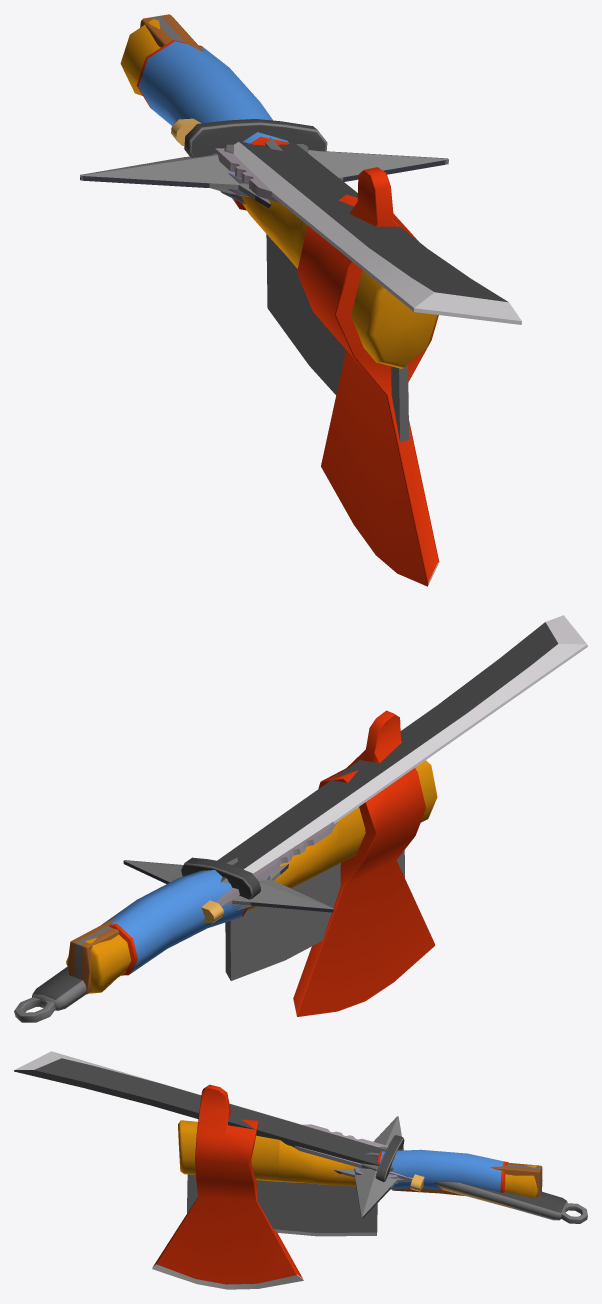
File: Weapons.fbx
3 views of the same model, one above another, from view 1: azimuth 30°, elevation 25°; view 2: azimuth 150°, elevation 25°; view 3: azimuth 270°, elevation 25° (orthographic). The views are drawn at different scales.
Visible parts, largest first — view 1: Butcher_knife2, Knife2, Butcher_knife1, Disc2, Disc1, Knife1; view 2: Butcher_knife2, Knife2, Butcher_knife1, Disc2, Knife1, Disc1; view 3: Butcher_knife2, Knife2, Butcher_knife1, Disc2, Knife1.
Boxes of the visible parts, x1,y1,x2,y2 form: Butcher_knife2: (120, 19, 439, 586); Knife2: (184, 119, 521, 324); Butcher_knife1: (140, 14, 409, 442); Disc2: (81, 144, 448, 204); Disc1: (80, 151, 445, 208); Knife1: (171, 118, 280, 203); Butcher_knife2: (66, 710, 437, 1016); Knife2: (14, 615, 587, 1022); Butcher_knife1: (67, 850, 404, 994); Disc2: (124, 860, 333, 911); Knife1: (201, 821, 337, 923); Disc1: (123, 861, 334, 912); Butcher_knife2: (152, 1084, 542, 1289); Knife2: (14, 1051, 587, 1223); Butcher_knife1: (187, 1152, 542, 1236); Disc2: (335, 1116, 407, 1218); Knife1: (292, 1124, 514, 1207).
Bounding box in the file's own units: 6.72 × 7.62 × 19.32.
